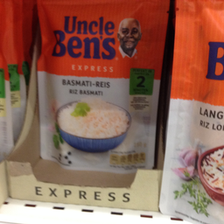rice: (37, 1, 168, 175)
